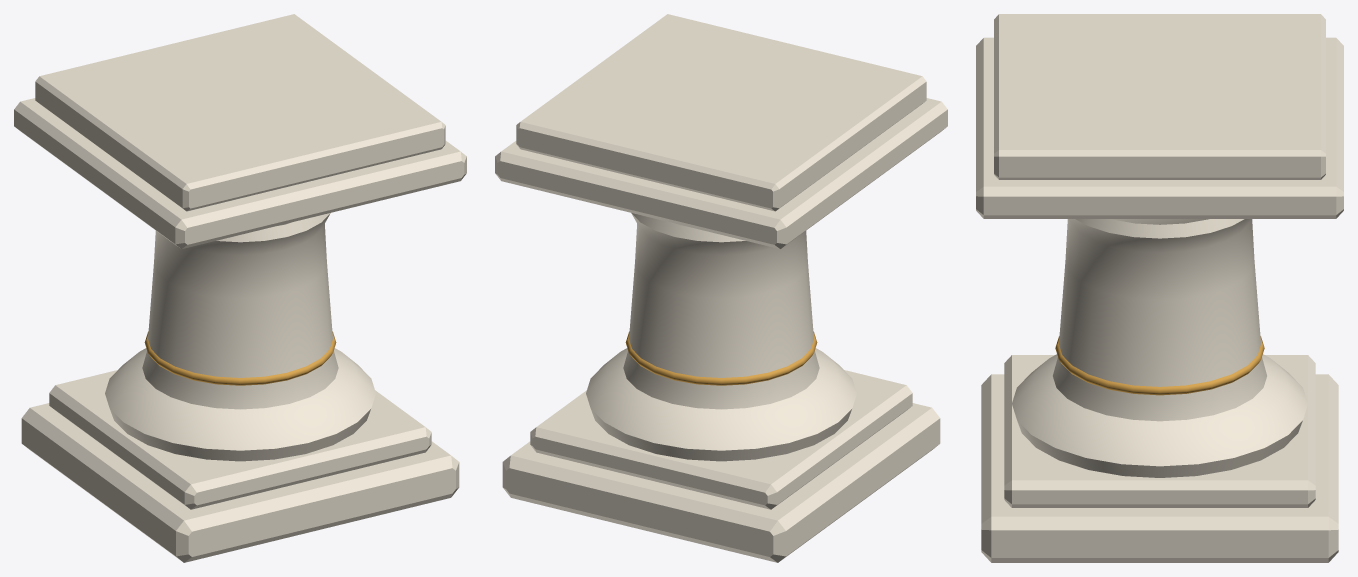
File: pedestal.glb
The picture shows the model from 3 angles, left to right: view 1: azimuth 30°, elevation 25°; view 2: azimuth 150°, elevation 25°; view 3: azimuth 270°, elevation 25°; orthographic projection. The views are drawn at different scales.
Visible parts, largest first — view 1: Pedestal; view 2: Pedestal; view 3: Pedestal.
Boxes of the visible parts, x1,y1,x2,y2 form: Pedestal: (14, 14, 466, 562); Pedestal: (495, 14, 947, 562); Pedestal: (976, 14, 1343, 562).
Size of the model in its own units: 1.44 by 1.77 by 1.44.
